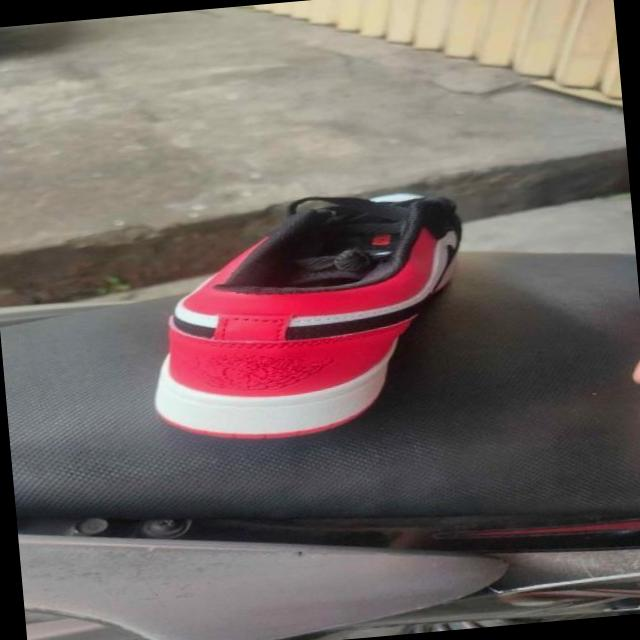nike_fake_jordan: (111, 184, 478, 455)
